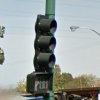Traffic light: (29, 7, 56, 80)
